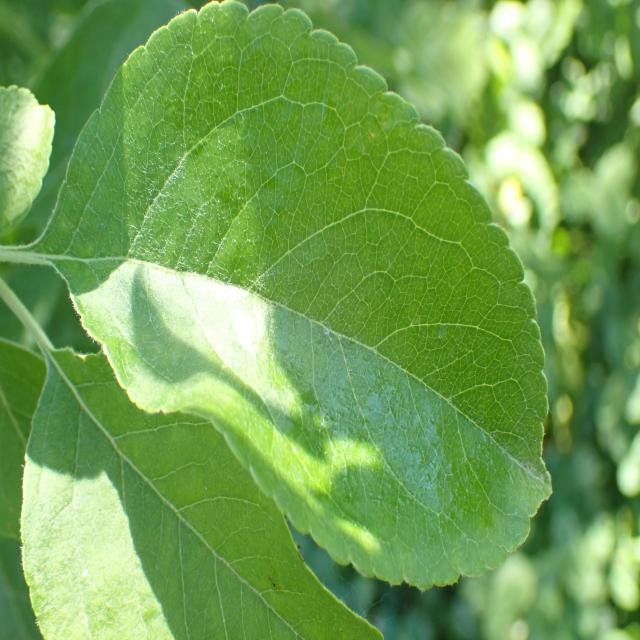healthy: (38, 0, 553, 594), (18, 343, 384, 640), (0, 84, 56, 236)
